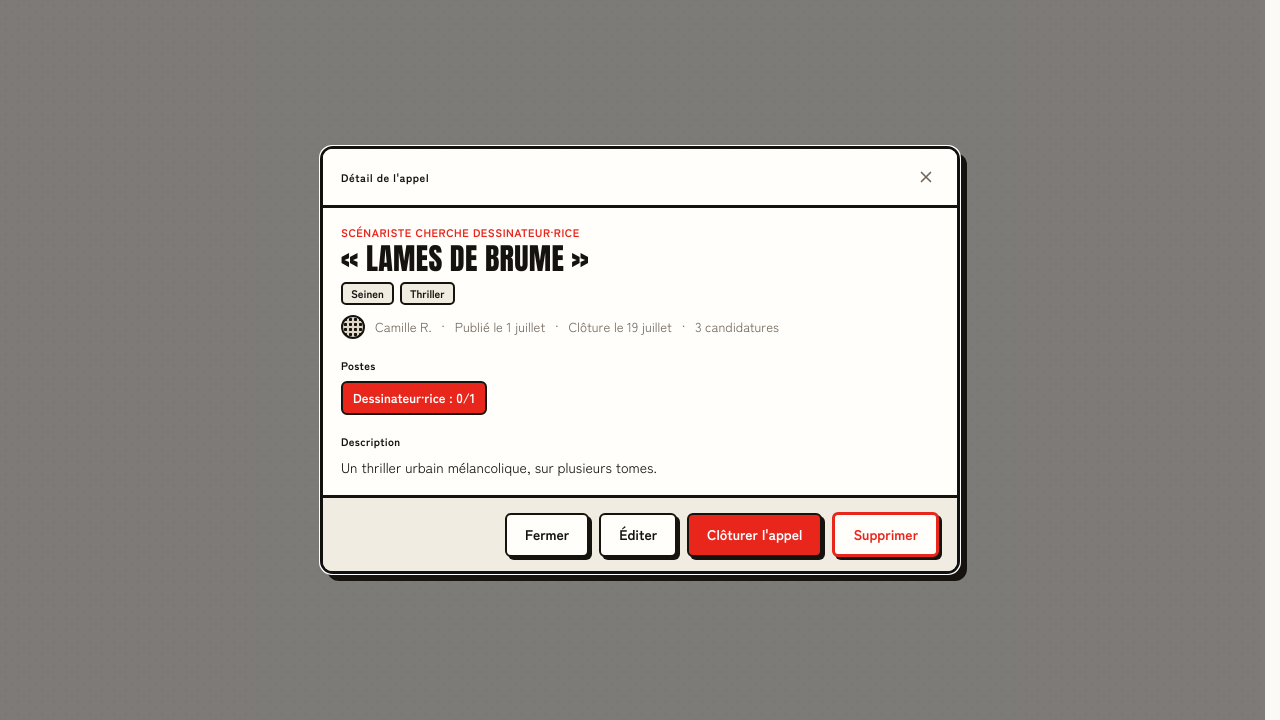
Test case: CallDetailModal › owner controls › opens the pre-filled edit dialog from Éditer
Click the button "Éditer". click: click(638, 535)
box: [599, 513, 677, 557]
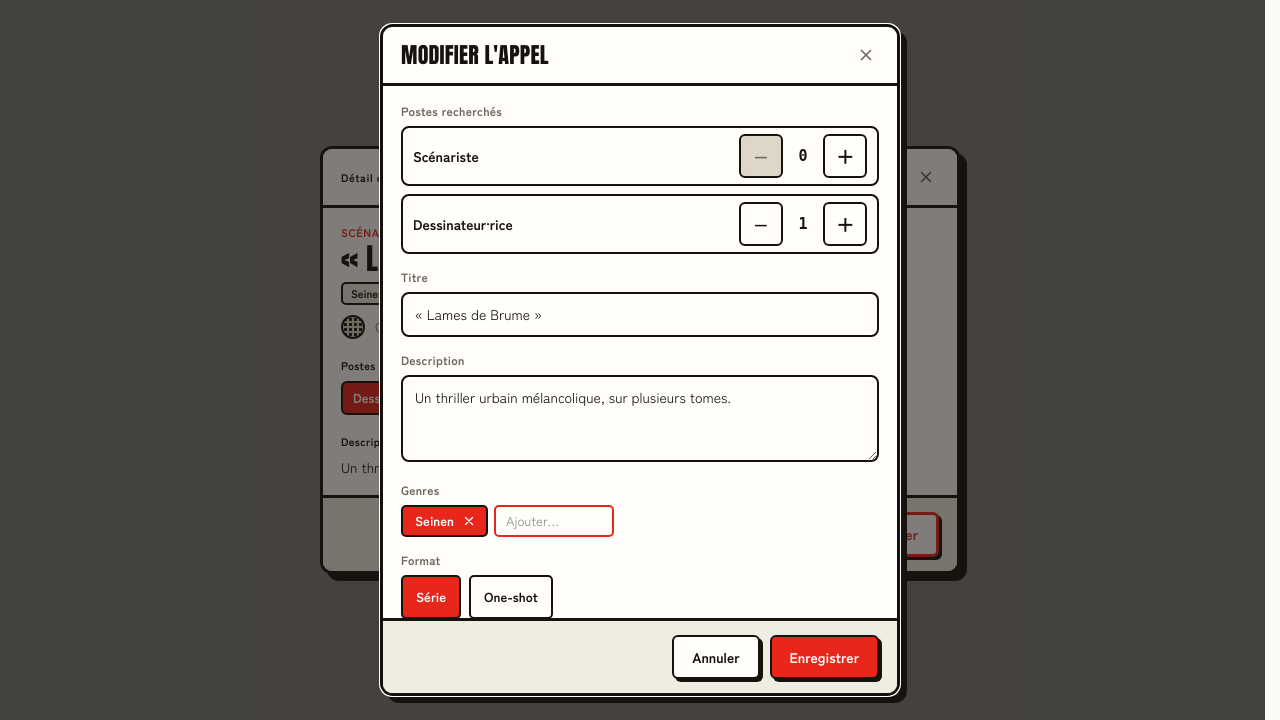
expect the dialog "Modifier l'appel" is shown: met, box [380, 24, 900, 696]
expect the field labelled "Titre" holds "« Lames de Brume »": met, box [401, 292, 879, 337]
